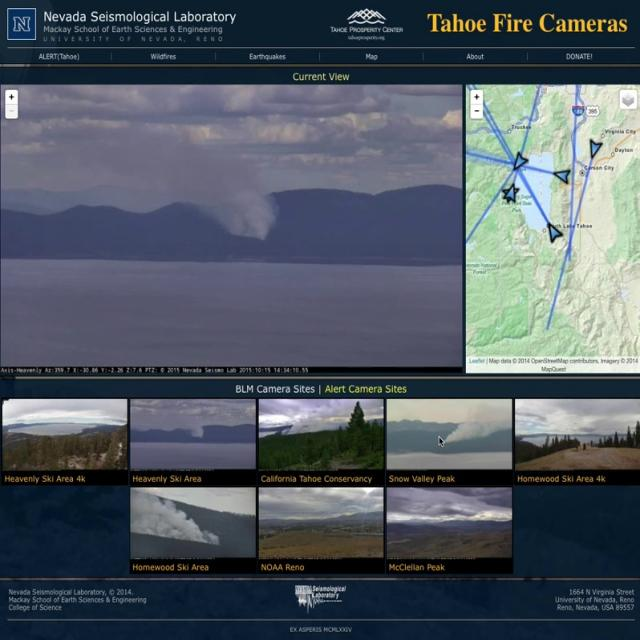smoke: (91, 123, 296, 250)
